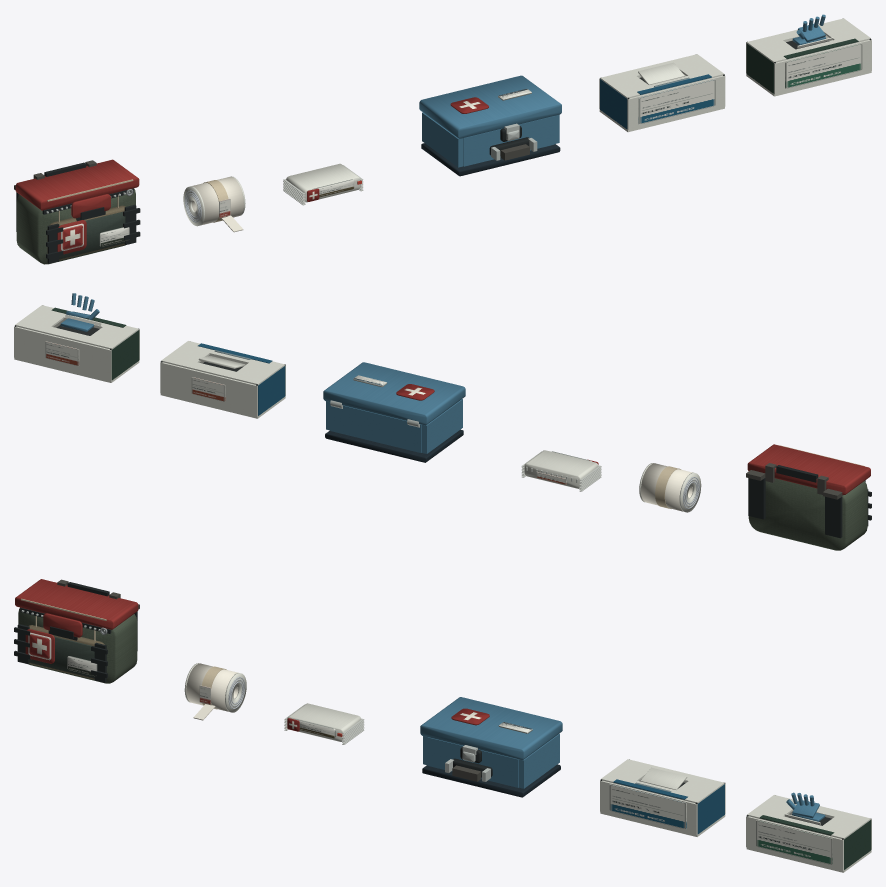
File: PZ_Medical_Pickups_Combined_Kit.glb
The picture shows the model from 3 angles, top to bottom: view 1: azimuth 30°, elevation 25°; view 2: azimuth 150°, elevation 25°; view 3: azimuth 330°, elevation 25°; orthographic projection.
Parts seen in each view (by area): view 1: RENDER_CASE_LidOuterShell, RENDER_POUCH_LidFabric, RENDER_POUCH_RipstopMainBody, RENDER_EXAM_PrintedFrontPanel, RENDER_NITRILE_PrintedFrontPanel, RENDER_CASE_FrontWall, RENDER_DRESSING_CrimpedOuterPack, RENDER_BANDAGE_WovenRollHollow, RENDER_CASE_LeftWall, RENDER_NITRILE_FrontCardboard, RENDER_EXAM_FrontCardboard, RENDER_CASE_BottomSkid (+11 smaller); view 2: RENDER_POUCH_RipstopMainBody, RENDER_CASE_LidOuterShell, RENDER_POUCH_LidFabric, RENDER_NITRILE_RearCardboard, RENDER_EXAM_RearCardboard, RENDER_CASE_BackWall, RENDER_DRESSING_CrimpedOuterPack, RENDER_BANDAGE_WovenRollHollow, RENDER_CASE_BottomSkid, RENDER_CASE_LeftWall, RENDER_EXAM_Side_L, RENDER_NITRILE_Side_L (+9 smaller); view 3: RENDER_CASE_LidOuterShell, RENDER_POUCH_LidFabric, RENDER_POUCH_RipstopMainBody, RENDER_NITRILE_PrintedFrontPanel, RENDER_EXAM_PrintedFrontPanel, RENDER_CASE_FrontWall, RENDER_DRESSING_CrimpedOuterPack, RENDER_BANDAGE_WovenRollHollow, RENDER_CASE_RightWall, RENDER_NITRILE_FrontCardboard, RENDER_EXAM_FrontCardboard, RENDER_CASE_BottomSkid (+9 smaller).
Part boxes in pixels (x1,y1,x2,y2): RENDER_CASE_LidOuterShell: [419, 75, 561, 138]; RENDER_POUCH_LidFabric: [15, 159, 139, 210]; RENDER_POUCH_RipstopMainBody: [16, 188, 135, 264]; RENDER_EXAM_PrintedFrontPanel: [785, 43, 862, 88]; RENDER_NITRILE_PrintedFrontPanel: [638, 79, 715, 124]; RENDER_CASE_FrontWall: [463, 116, 554, 166]; RENDER_DRESSING_CrimpedOuterPack: [286, 163, 360, 202]; RENDER_BANDAGE_WovenRollHollow: [191, 177, 243, 225]; RENDER_CASE_LeftWall: [422, 112, 463, 167]; RENDER_NITRILE_FrontCardboard: [627, 75, 725, 130]; RENDER_EXAM_FrontCardboard: [774, 40, 871, 94]; RENDER_CASE_BottomSkid: [421, 143, 560, 176]; RENDER_POUCH_RipstopMainBody: [748, 478, 867, 550]; RENDER_CASE_LidOuterShell: [323, 362, 465, 425]; RENDER_POUCH_LidFabric: [747, 444, 870, 494]; RENDER_NITRILE_RearCardboard: [160, 362, 257, 416]; RENDER_EXAM_RearCardboard: [14, 326, 111, 380]; RENDER_CASE_BackWall: [330, 405, 421, 452]; RENDER_DRESSING_CrimpedOuterPack: [524, 450, 598, 488]; RENDER_BANDAGE_WovenRollHollow: [640, 463, 692, 511]; RENDER_CASE_BottomSkid: [325, 429, 463, 462]; RENDER_CASE_LeftWall: [421, 399, 462, 453]; RENDER_EXAM_Side_L: [111, 330, 139, 380]; RENDER_NITRILE_Side_L: [258, 366, 285, 415]; RENDER_CASE_LidOuterShell: [420, 697, 562, 759]; RENDER_POUCH_LidFabric: [15, 579, 138, 629]; RENDER_POUCH_RipstopMainBody: [18, 607, 137, 683]; RENDER_NITRILE_PrintedFrontPanel: [609, 784, 686, 829]; RENDER_EXAM_PrintedFrontPanel: [756, 820, 832, 864]; RENDER_CASE_FrontWall: [427, 737, 518, 787]; RENDER_DRESSING_CrimpedOuterPack: [287, 703, 361, 741]; RENDER_BANDAGE_WovenRollHollow: [186, 663, 238, 711]; RENDER_CASE_RightWall: [518, 733, 559, 788]; RENDER_NITRILE_FrontCardboard: [600, 780, 697, 834]; RENDER_EXAM_FrontCardboard: [746, 816, 843, 870]; RENDER_CASE_BottomSkid: [422, 764, 560, 797].
Size of the model in its own units: 1.98 by 0.1775 by 0.1945.
1 material, 1 textured.
